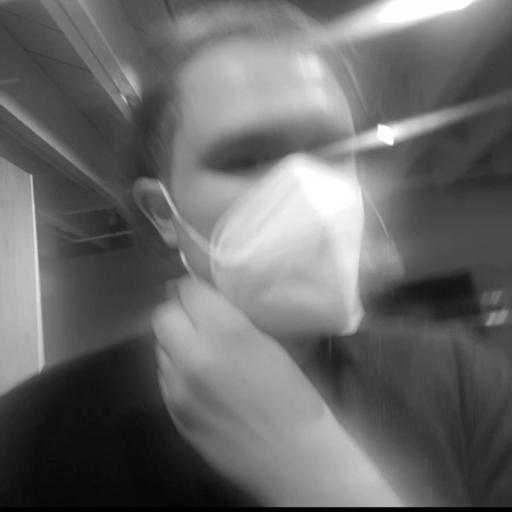mask: (116, 0, 413, 327)
